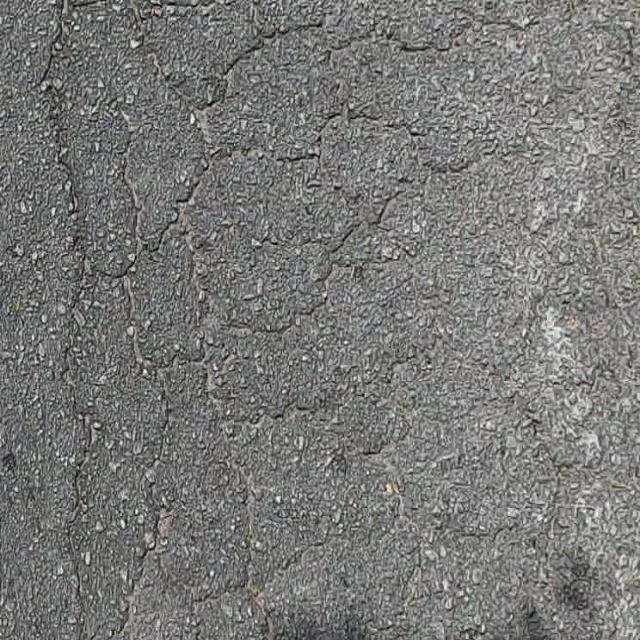PIEL DE COCODRILO: (32, 0, 639, 639)
